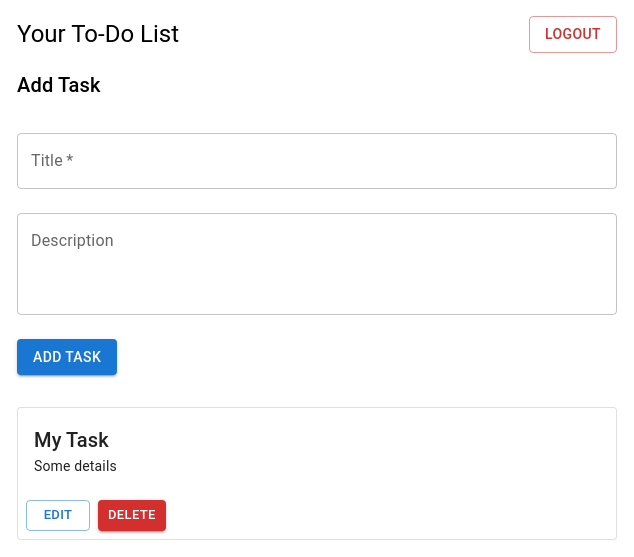
ToDoListPage › starts editing a task when "Edit" is clicked
Check: the heading "My Task" is shown, box [34,428,109,452]
Note: Click "Edit"
Click the button "Edit" at (58, 515), box [26,500,90,531]
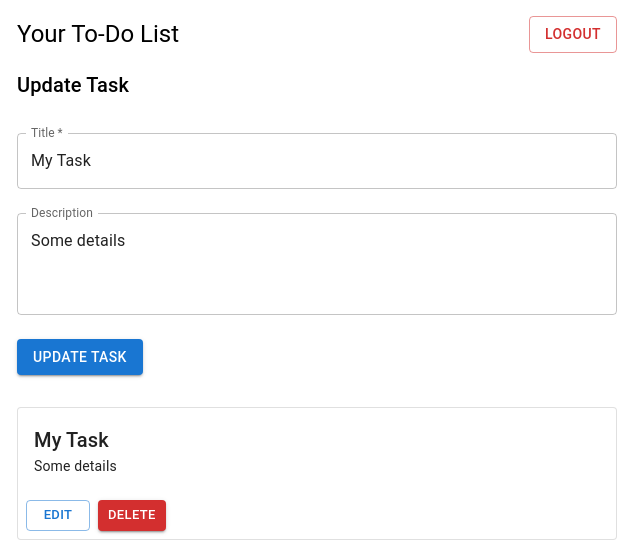
Check: the button "Update Task" is shown, box [17,338,143,375]
Check: the field showing "My Task" is shown, box [17,132,617,188]
Check: the text box showing "Some details" is shown, box [31,229,603,298]
